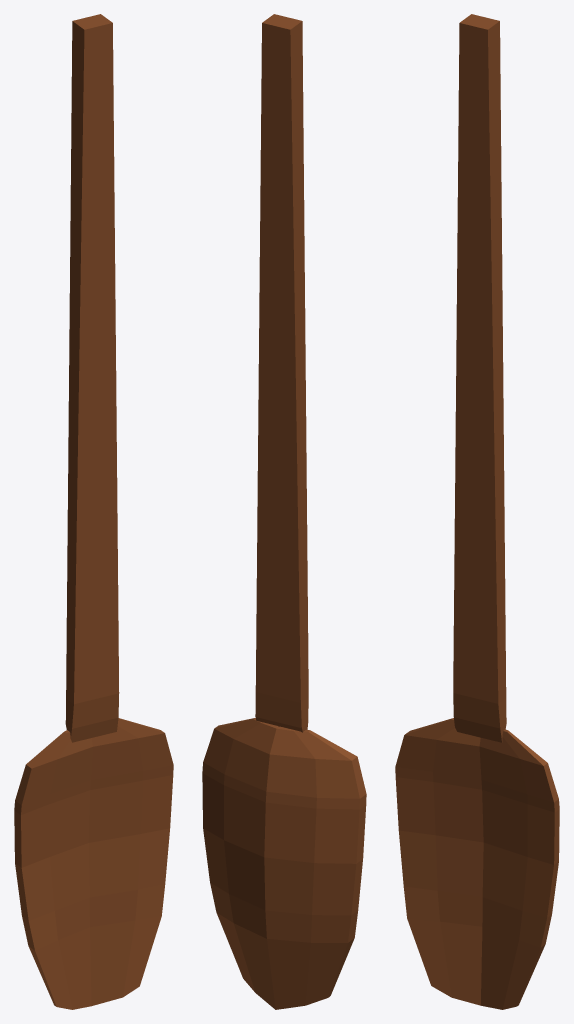
The model's file is Oar_1.fbx.
3 views of the same model, side by side, from view 1: azimuth 30°, elevation 25°; view 2: azimuth 150°, elevation 25°; view 3: azimuth 330°, elevation 25° (orthographic).
Visible parts, largest first — view 1: Oar_1; view 2: Oar_1; view 3: Oar_1.
Part boxes in pixels (bbox=[...]): Oar_1: bbox=[14, 14, 173, 1009]; Oar_1: bbox=[202, 14, 366, 1009]; Oar_1: bbox=[395, 14, 559, 1009].
Bounding box in the file's own units: 29.96 × 181 × 8.49.
